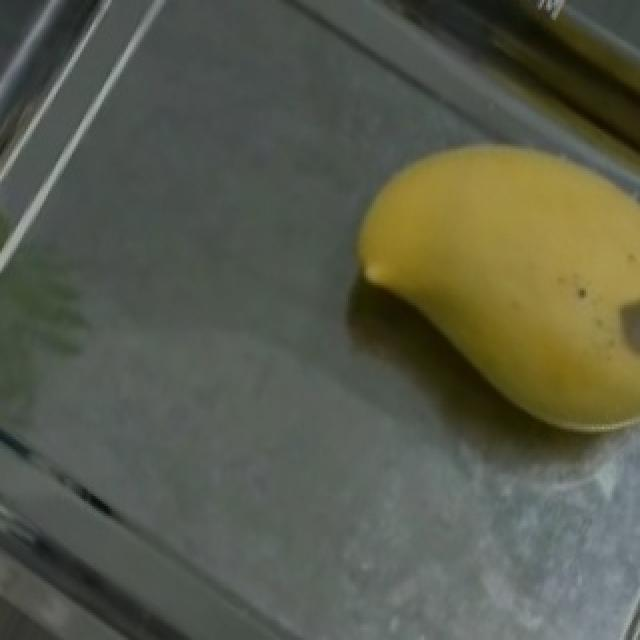fruit: (312, 79, 640, 454)
